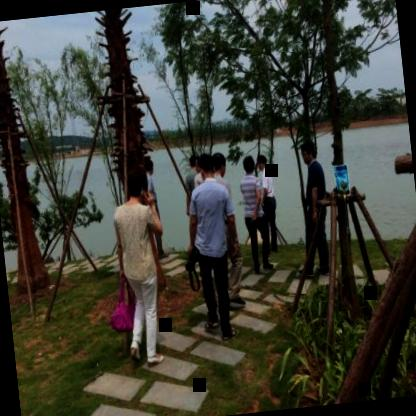head: (122, 156, 152, 206), (295, 138, 320, 171), (194, 152, 216, 185), (211, 148, 229, 180), (242, 152, 257, 177), (254, 150, 269, 174), (186, 151, 200, 176)
